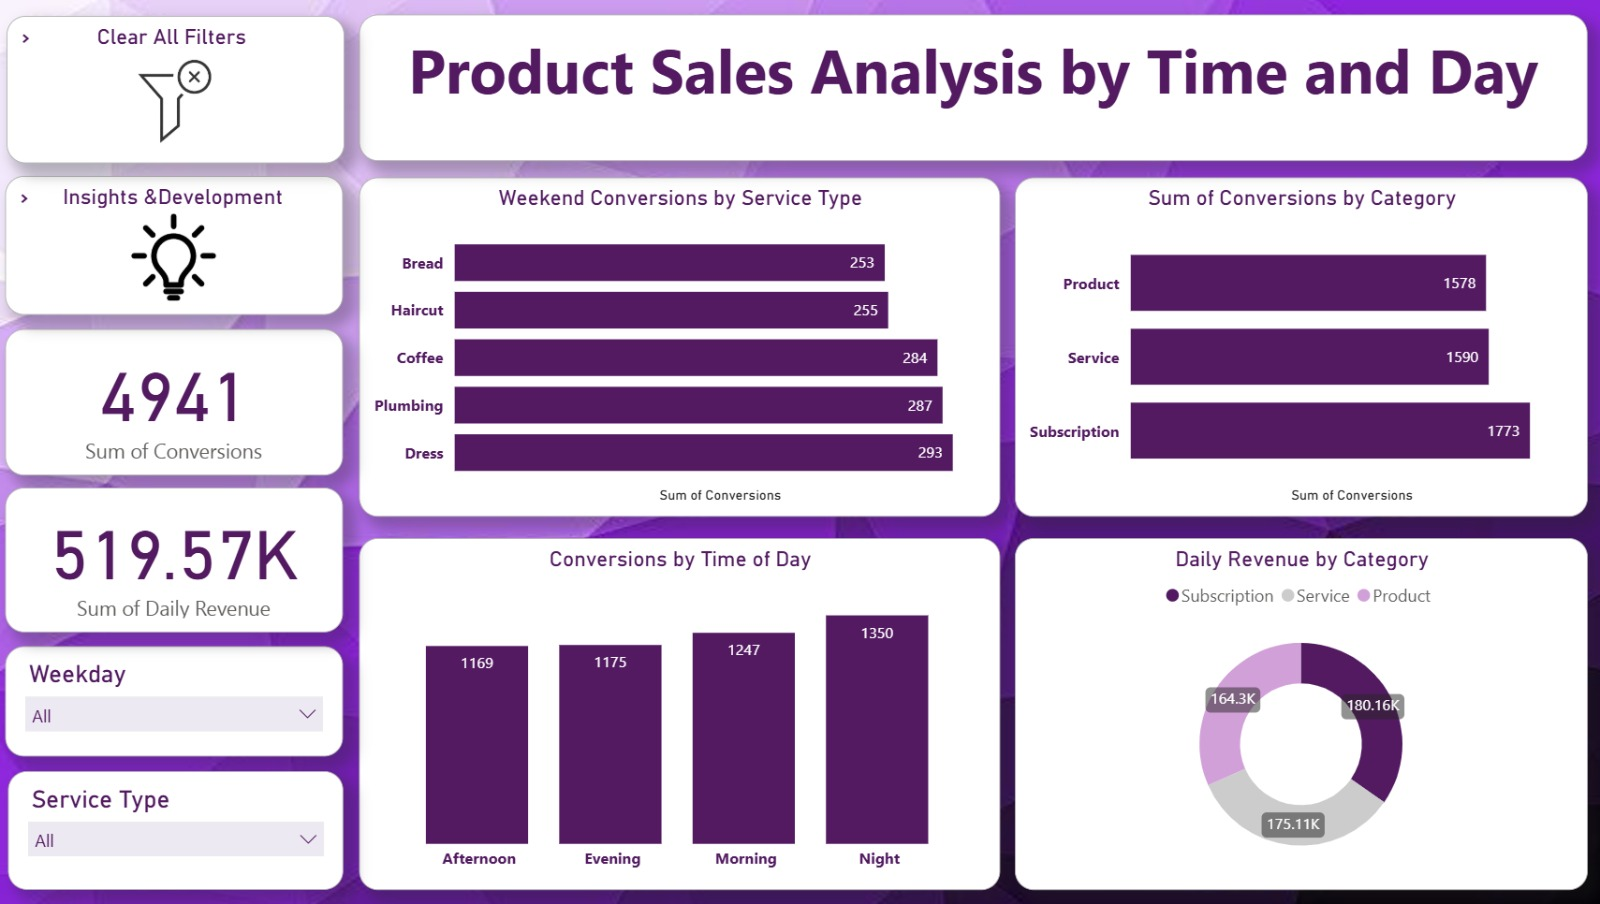

The dashboard page shown, as its layout file describes it:
{"tool":"powerbi","page":{"name":"Dashboard","canvas":[1280,720],"ordinal":0},"visuals":[{"type":"barChart","title":"Weekend Conversions by Service Type ","fields":{"Category":["Sheet1.Service Type"],"Y":["Sum(Sheet1.Conversions)"]},"box":[292.7,141.6,507.4,268.8],"z":0},{"type":"clusteredColumnChart","title":"Conversions by Time of Day","fields":{"Category":["Sheet1.Time of Day"],"Y":["Sum(Sheet1.Conversions)"]},"box":[292.7,426.3,507.4,278.4],"z":1000},{"type":"slicer","fields":{"Values":["Sheet1.Weekday"]},"box":[12.7,512.2,267.2,87.5],"z":2000},{"type":"clusteredBarChart","fields":{"Category":["Sheet1.Category"],"Y":["Sum(Sheet1.Conversions)"]},"box":[811.2,141.6,453.3,268.8],"z":3000},{"type":"card","fields":{"Values":["Sum(Sheet1.Conversions)"]},"box":[12.7,260.9,267.2,116.1],"z":4000},{"type":"slicer","fields":{"Values":["Sheet1.Service Type"]},"box":[14.3,610.8,265.6,93.8],"z":5000},{"type":"card","fields":{"Values":["Sum(Sheet1.Daily Revenue)"]},"box":[12.7,386.5,267.2,114.5],"z":6000},{"type":"donutChart","title":"Daily Revenue by Category","fields":{"Category":["Sheet1.Category"],"Y":["Sum(Sheet1.Daily Revenue)"]},"box":[811.2,426.3,453.3,278.4],"z":7000},{"type":"textbox","box":[292.7,12.7,971.9,116.1],"z":8000},{"type":"image","title":">      Insights &Development","box":[12.7,140,267.2,109.8],"z":9000},{"type":"image","title":">            Clear All Filters","box":[13,13,267.2,116.6],"z":10000}]}

Visuals, with their boxes in screenshot pixels (x1, y1, x2, y2), scaled from the page's 1280x720 canvas onto the 1600x904 screenshot:
"Weekend Conversions by Service Type " barChart: pyautogui.locateOnScreen(366, 178, 1000, 515)
"Conversions by Time of Day" clusteredColumnChart: pyautogui.locateOnScreen(366, 535, 1000, 885)
slicer - Sheet1.Weekday: pyautogui.locateOnScreen(16, 643, 350, 753)
clusteredBarChart - Sheet1.Category x Sum(Sheet1.Conversions): pyautogui.locateOnScreen(1014, 178, 1581, 515)
card - Sum(Sheet1.Conversions): pyautogui.locateOnScreen(16, 328, 350, 473)
slicer - Sheet1.Service Type: pyautogui.locateOnScreen(18, 767, 350, 885)
card - Sum(Sheet1.Daily Revenue): pyautogui.locateOnScreen(16, 485, 350, 629)
"Daily Revenue by Category" donutChart: pyautogui.locateOnScreen(1014, 535, 1581, 885)
textbox: pyautogui.locateOnScreen(366, 16, 1581, 162)
">      Insights &Development" image: pyautogui.locateOnScreen(16, 176, 350, 314)
">            Clear All Filters" image: pyautogui.locateOnScreen(16, 16, 350, 163)
